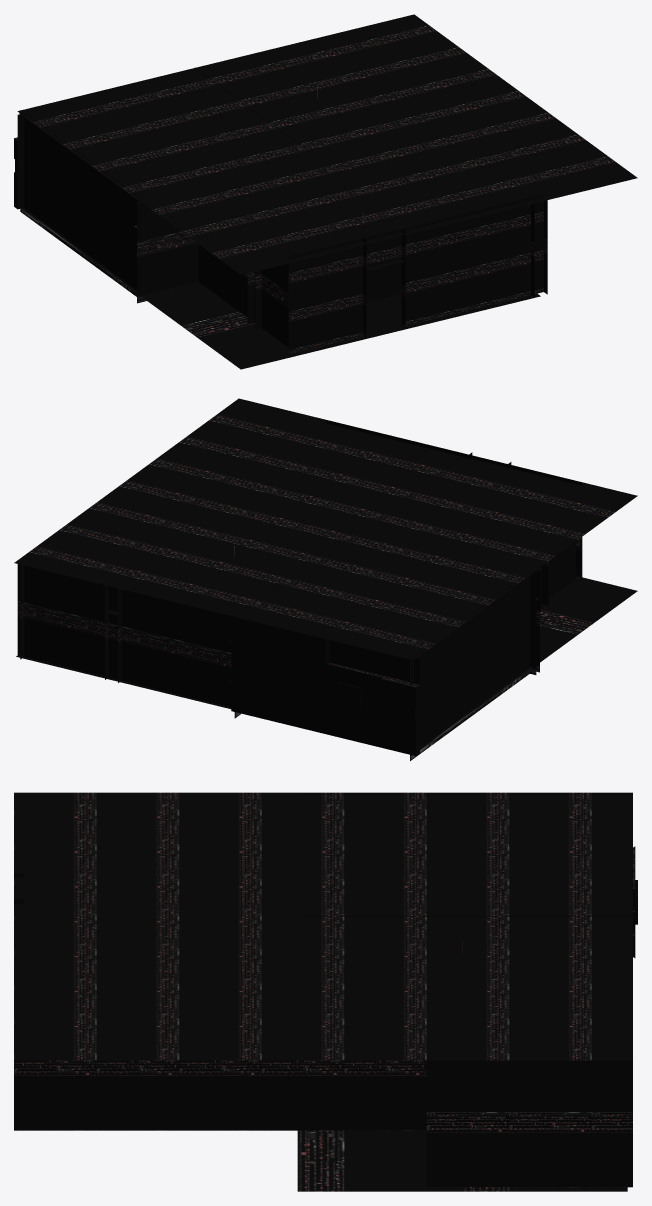
File: room035_opt.obj
3 views of the same model, one above another, from view 1: azimuth 30°, elevation 25°; view 2: azimuth 150°, elevation 25°; view 3: azimuth 270°, elevation 25° (orthographic). The views are drawn at different scales.
Bounding box in the file's own units: 1984 × 530 × 1936.
